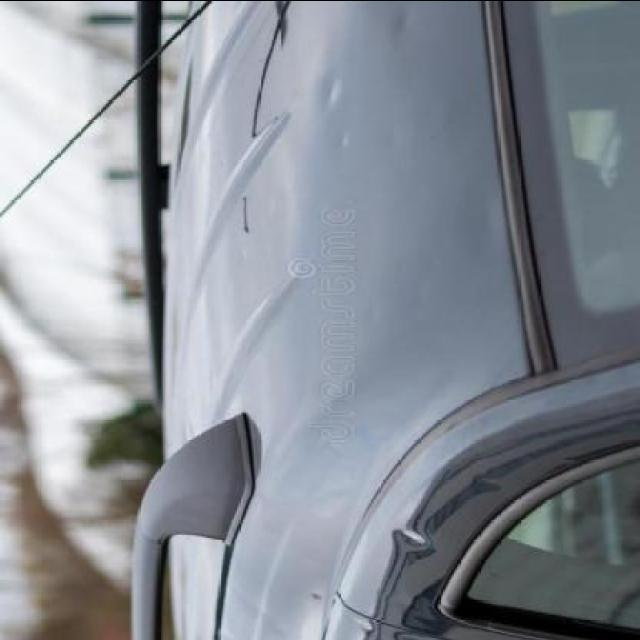roof-dent: (166, 0, 570, 231)
